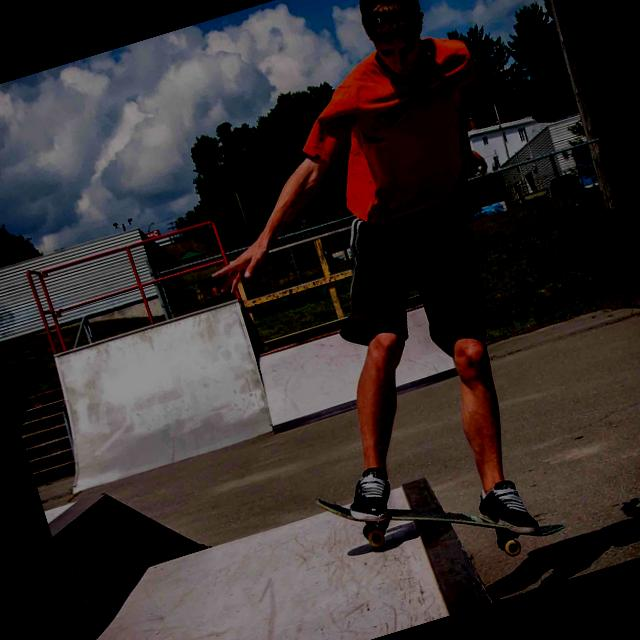Vehicle: (471, 206, 498, 220), (582, 176, 600, 190)
